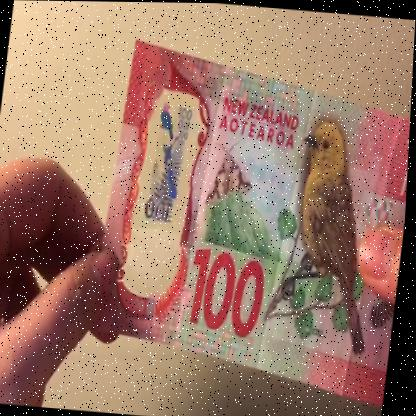100B: (137, 93, 197, 278)
